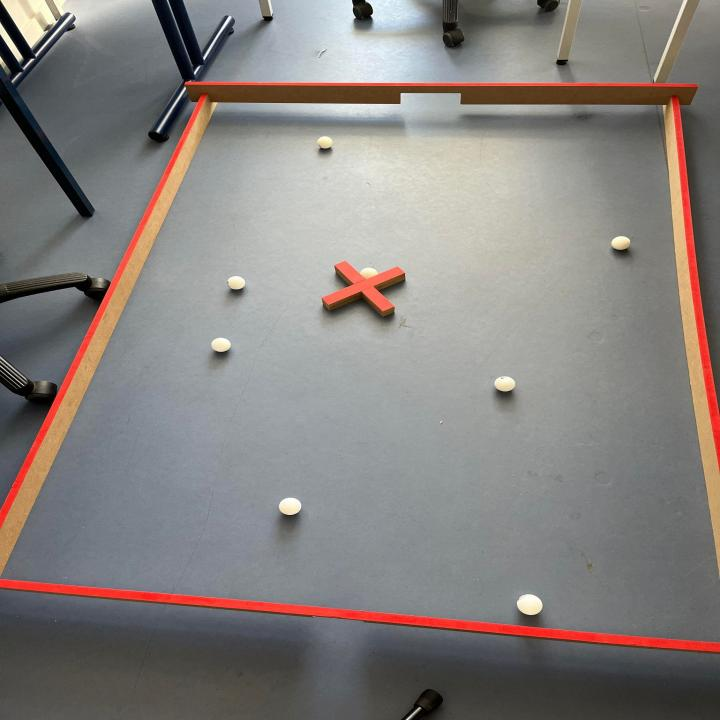white: (517, 593, 544, 617), (278, 497, 304, 518), (611, 234, 632, 252), (494, 376, 516, 392), (210, 337, 232, 352), (228, 275, 246, 290), (358, 266, 379, 278), (318, 136, 334, 149)
